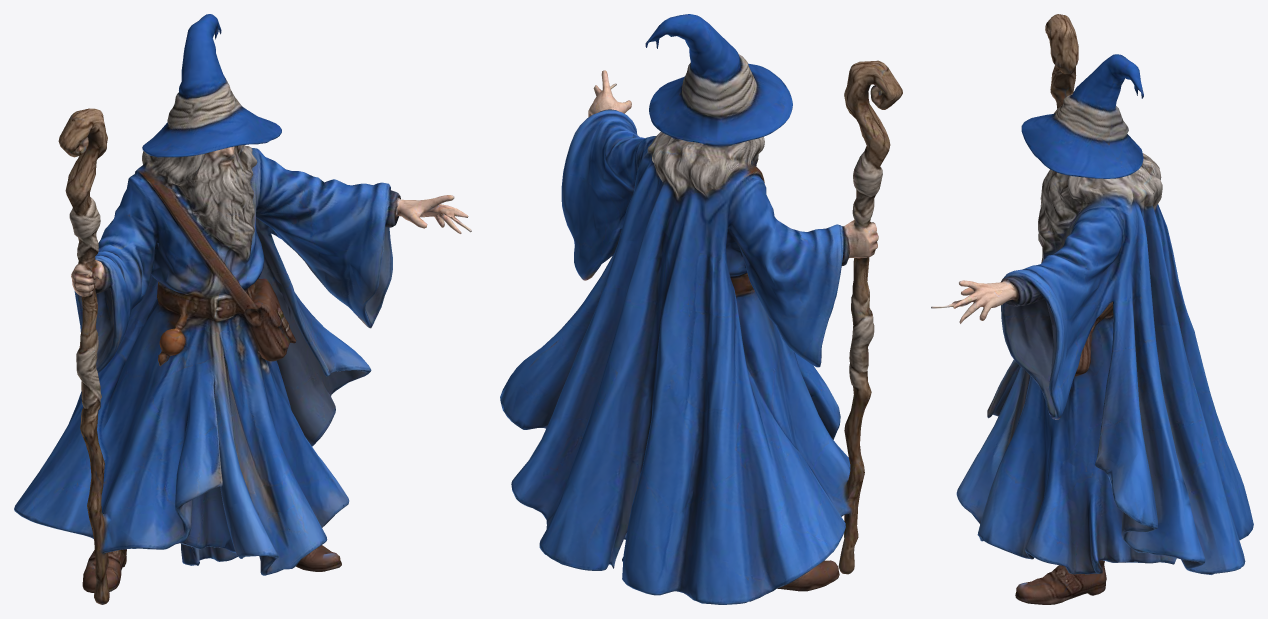
File: blue-wizard.glb
3 renders of one model, left to right at view 1: azimuth 30°, elevation 25°; view 2: azimuth 150°, elevation 25°; view 3: azimuth 270°, elevation 25°, orthographic. The views are drawn at different scales.
Bounding box in the file's own units: 1.31 × 1.9 × 1.09.
Materials: 1 (1 with a texture image).
